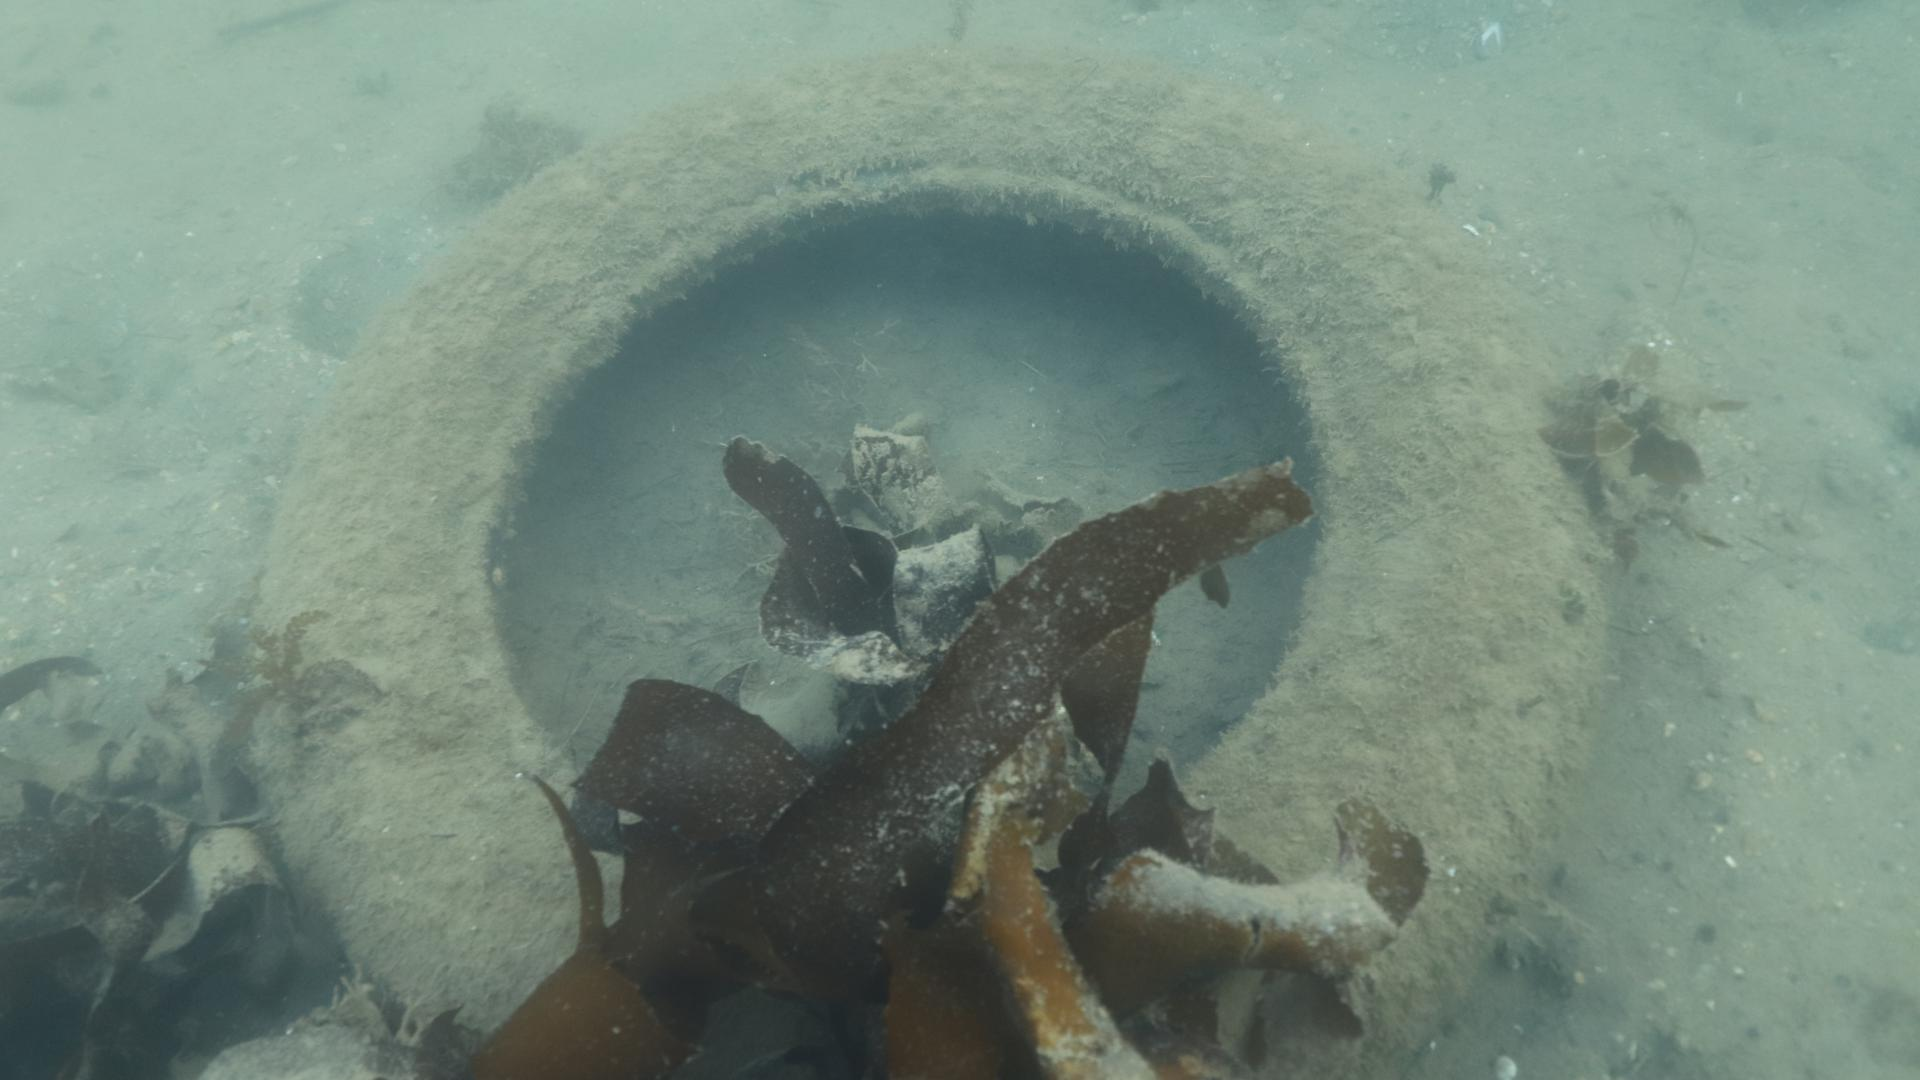tire: (244, 44, 1615, 1080)
